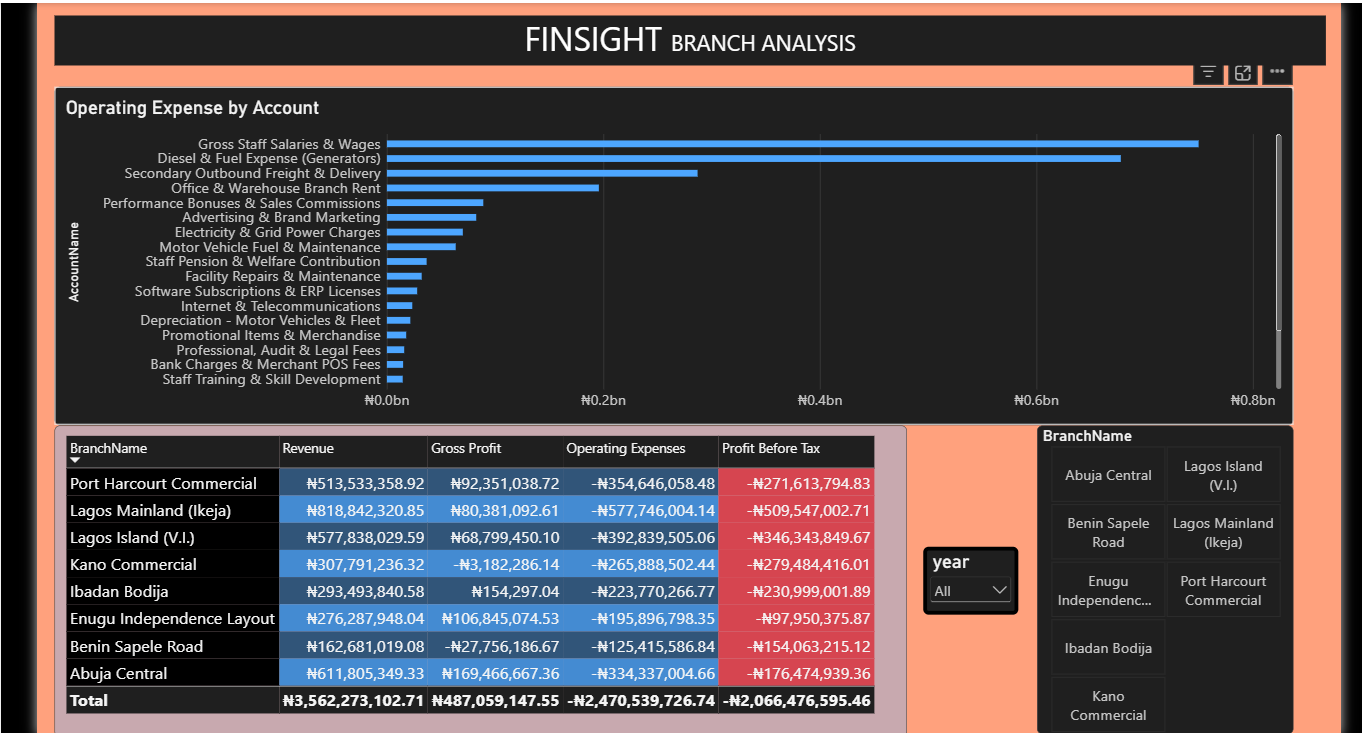

The dashboard page shown, as its layout file describes it:
{"tool":"powerbi","page":{"name":"Branch Analysis","canvas":[1920,1080],"ordinal":2},"visuals":[{"type":"clusteredBarChart","title":"Operating Expense by Account","fields":{"Category":["DimAccount.AccountName"],"Y":["FactFinancialTransactions.operating Expense display"]},"box":[25.8,123.3,1823.9,498.8],"z":0},{"type":"tableEx","fields":{"Values":["DimBranch.BranchName","FactFinancialTransactions.Revenue","FactFinancialTransactions.Gross Profit","FactFinancialTransactions.Operating Expenses","FactFinancialTransactions.Profit Before Tax"]},"box":[25.8,622.1,1255.2,458.3],"z":1000},{"type":"textbox","box":[25.8,18.4,1871.8,73.6],"z":2000},{"type":"slicer","fields":{"Values":["DimBranch.BranchName"]},"box":[1472.4,622.1,377.9,454.7],"z":3000},{"type":"slicer","fields":{"Values":["Date.year"]},"box":[1304.9,800.6,140,100],"z":3001}]}

Visuals, with their boxes on the page's 1920x1080 design canvas (x1, y1, x2, y2). These are canvas units, not pixel positions in the 1362x733 screenshot, which may show the page scaled, cropped or inside an application window:
"Operating Expense by Account" clusteredBarChart: (left=26, top=123, right=1850, bottom=622)
tableEx - DimBranch.BranchName x FactFinancialTransactions.Revenue: (left=26, top=622, right=1281, bottom=1080)
textbox: (left=26, top=18, right=1898, bottom=92)
slicer - DimBranch.BranchName: (left=1472, top=622, right=1850, bottom=1077)
slicer - Date.year: (left=1305, top=801, right=1445, bottom=901)
